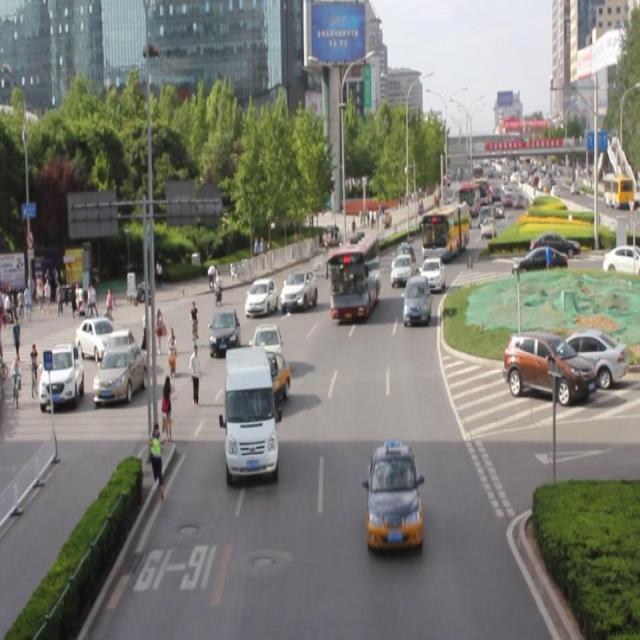car: (366, 443, 421, 549), (247, 351, 289, 405), (250, 323, 282, 377), (279, 270, 317, 313), (209, 308, 240, 357), (403, 274, 430, 327), (244, 278, 278, 316), (418, 256, 444, 292), (390, 252, 413, 287)
truck: (224, 346, 276, 480)
van: (329, 229, 377, 319)
